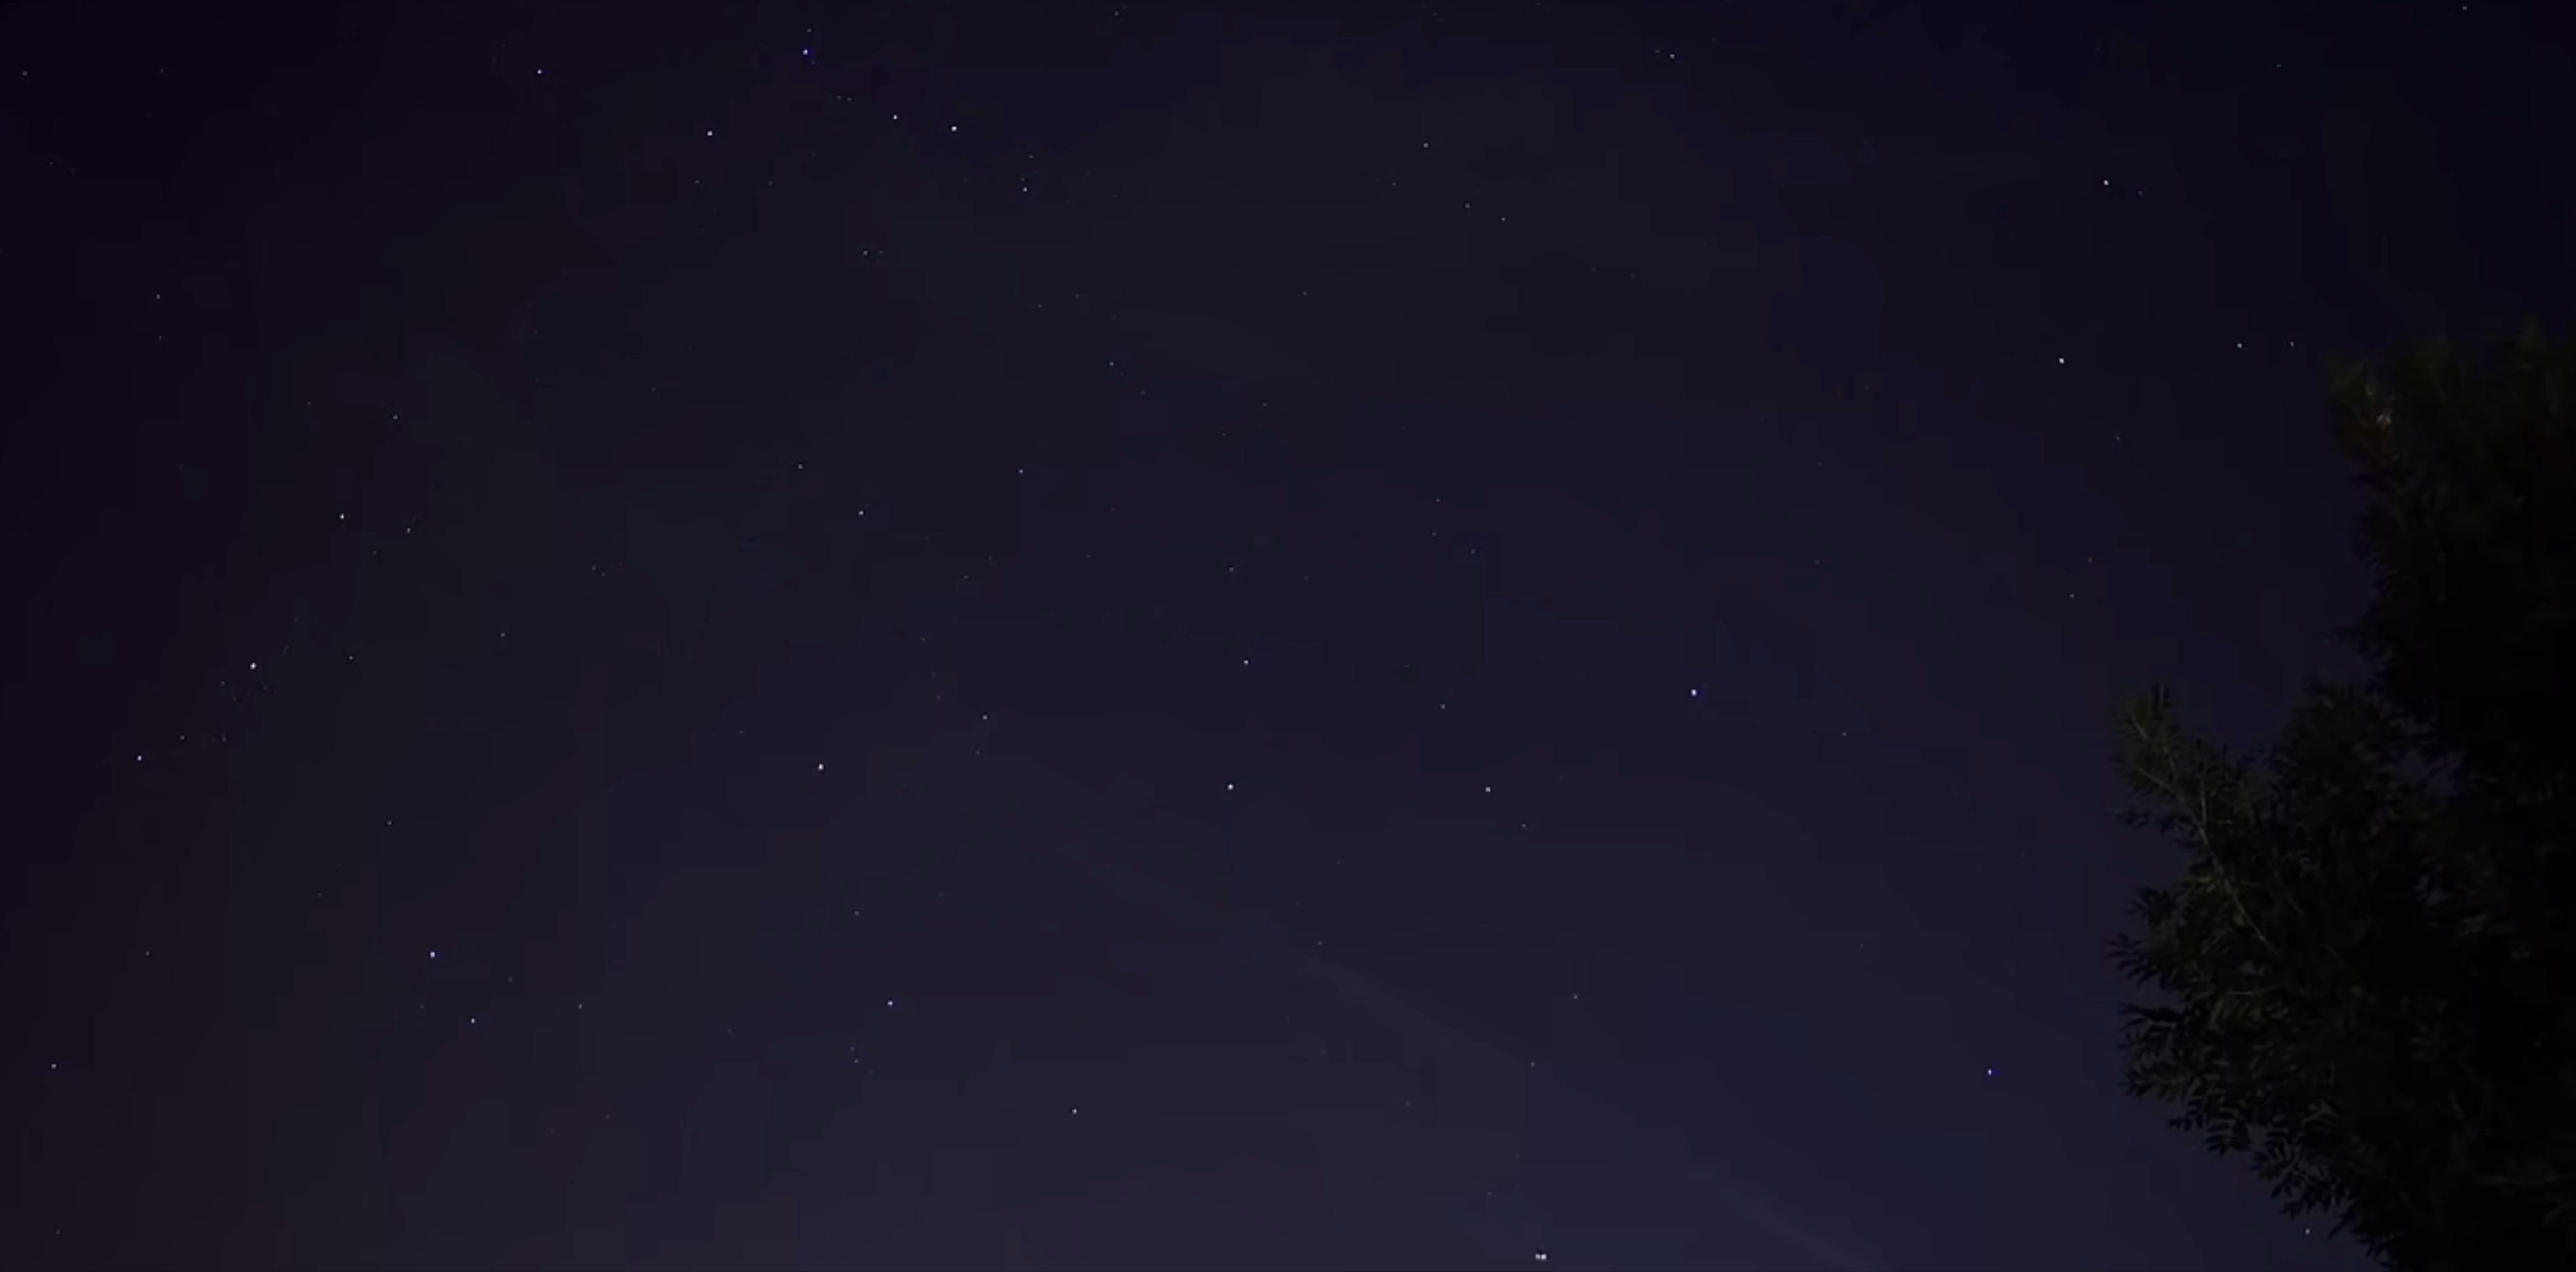Plane: (1521, 1242, 1566, 1264)
